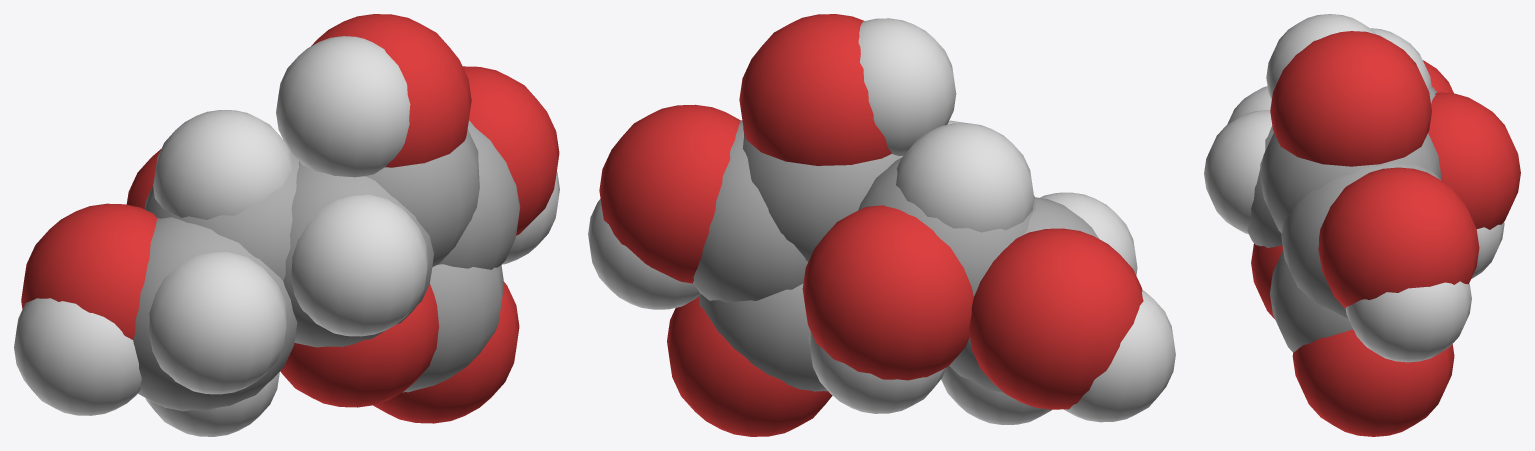
The model's file is vitamin-c-cpk.glb.
3 renders of one model, left to right at view 1: azimuth 30°, elevation 25°; view 2: azimuth 150°, elevation 25°; view 3: azimuth 270°, elevation 25°, orthographic. The views are drawn at different scales.
Parts seen in each view (by area): view 1: vitamin-c-cpk; view 2: vitamin-c-cpk; view 3: vitamin-c-cpk.
Part boxes in pixels (left/top/right/bottom): vitamin-c-cpk: left=14, top=14, right=559, bottom=436; vitamin-c-cpk: left=588, top=14, right=1175, bottom=436; vitamin-c-cpk: left=1204, top=14, right=1520, bottom=436.
Bounding box in the file's own units: 10.5 × 7.59 × 5.95.
